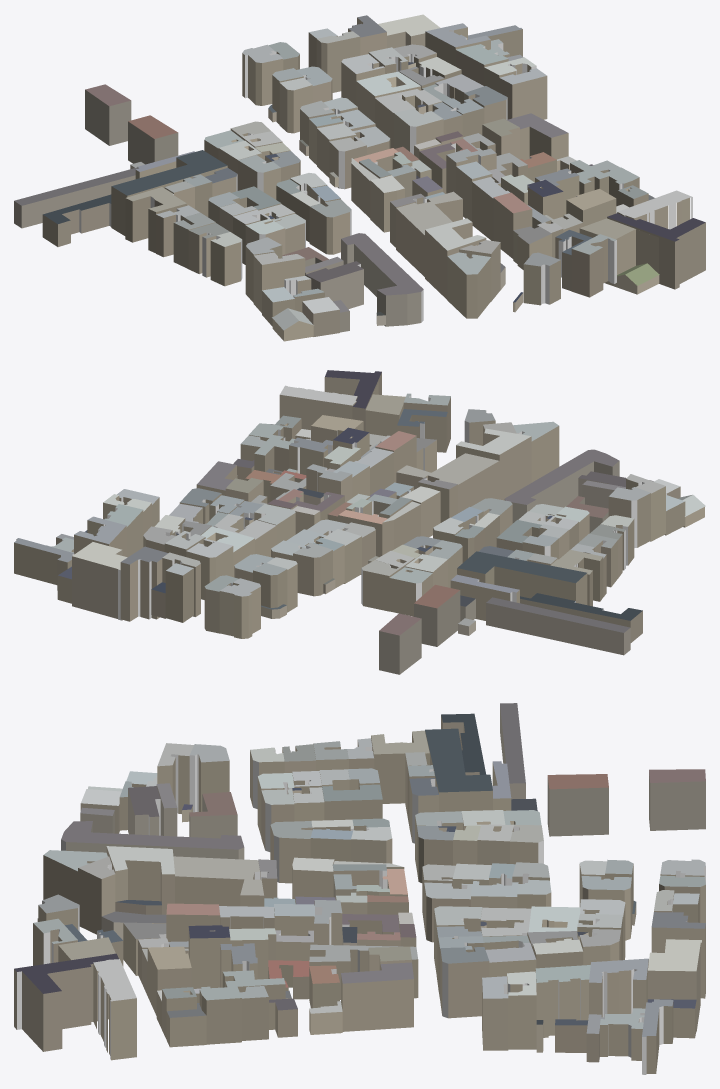
The picture shows the model from 3 angles, top to bottom: view 1: azimuth 30°, elevation 25°; view 2: azimuth 150°, elevation 25°; view 3: azimuth 270°, elevation 25°; orthographic projection. The views are drawn at different scales.
Visible parts, largest first — view 1: tuile; view 2: tuile; view 3: tuile.
Part boxes in pixels (bbox=[...]): tuile: bbox=[14, 14, 705, 341]; tuile: bbox=[14, 370, 705, 674]; tuile: bbox=[14, 703, 705, 1074].
Bounding box in the file's own units: 300 × 36.51 × 266.
